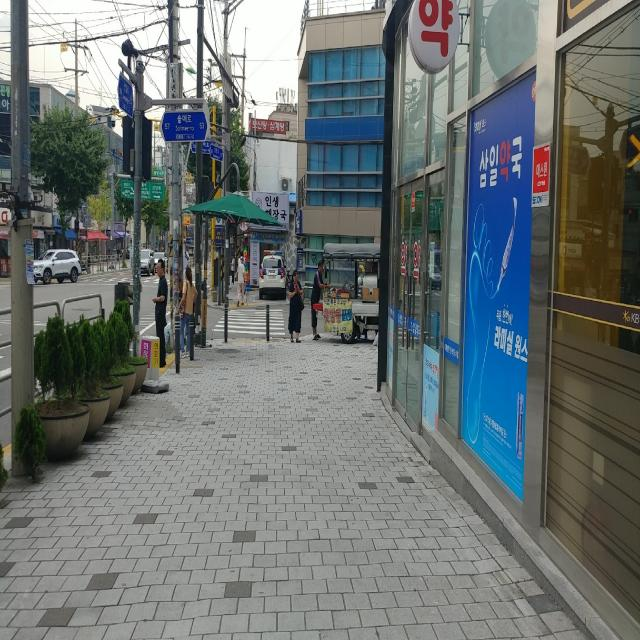횡단보도: (211, 308, 286, 336)
